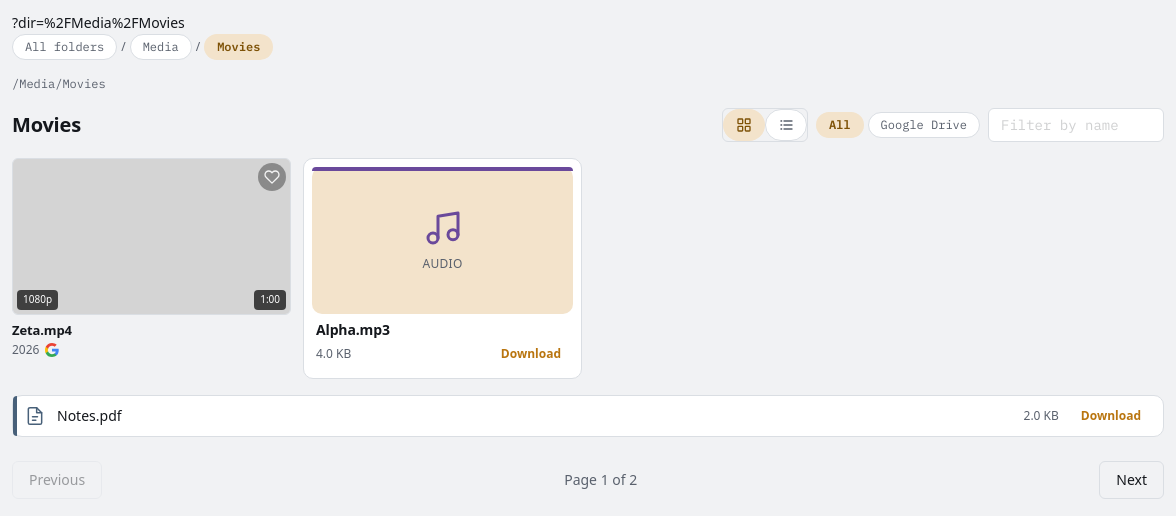
Test: FolderOrganizer breadcrumbs › renders breadcrumb chips for the selected path, tappable to navigate up
This screenshot has width=1176, height=516.
Expected: the heading "Zeta.mp4" is shown, [12,321,72,339]
Expected: the button "All folders" is shown, [12,34,117,60]
Tapping a segment selects that folder.
Click the button "Media" at (161, 47), box [130,34,192,60]
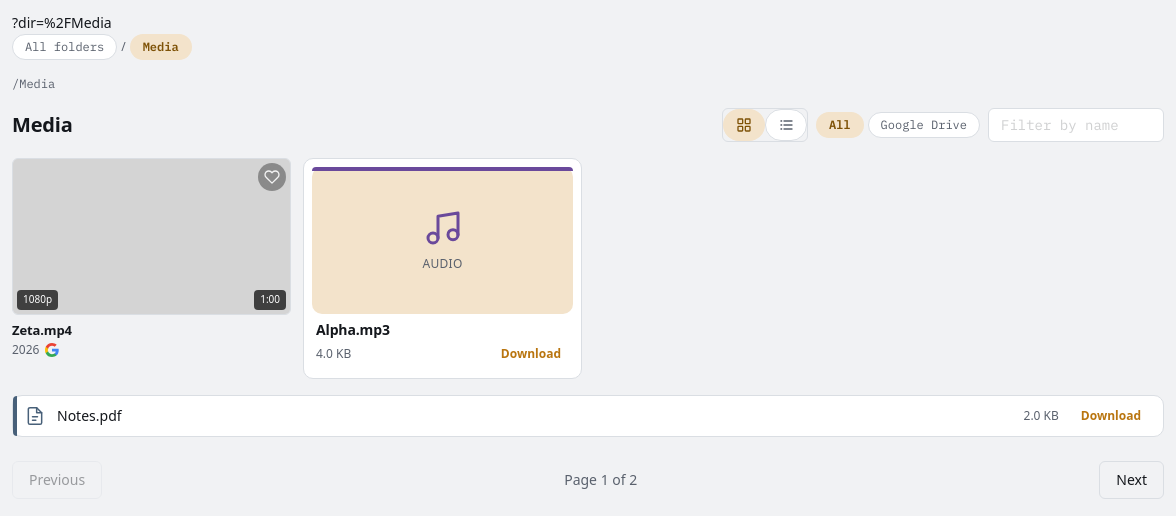
Now the heading with test id "contents-path" reads "Media", box [12,111,72,138]
